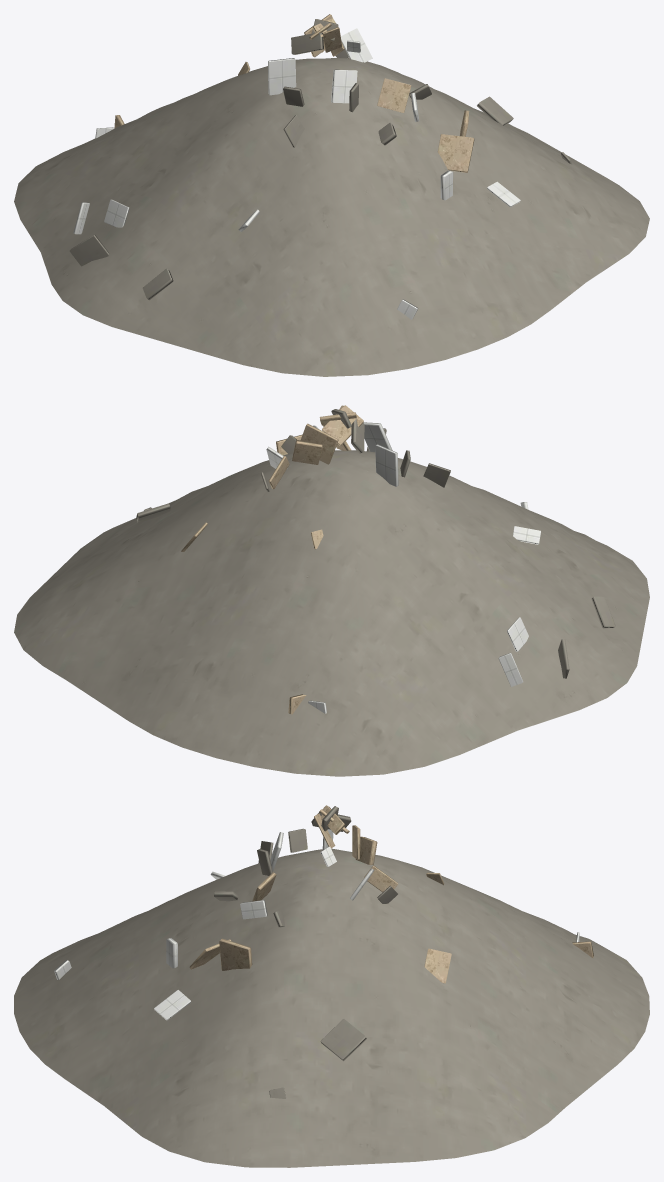
The model's file is SER-DEM-003_lod1.glb.
The picture shows the model from 3 angles, top to bottom: view 1: azimuth 30°, elevation 25°; view 2: azimuth 150°, elevation 25°; view 3: azimuth 270°, elevation 25°; orthographic projection. The views are drawn at different scales.
Parts seen in each view (by area): view 1: SER-DEM-003_monte, SER-DEM-003_caco1, SER-DEM-003_caco18, SER-DEM-003_caco28, SER-DEM-003_caco9, SER-DEM-003_caco8, SER-DEM-003_caco17, SER-DEM-003_caco0, SER-DEM-003_caco2; view 2: SER-DEM-003_monte, SER-DEM-003_caco18, SER-DEM-003_caco19, SER-DEM-003_caco25, SER-DEM-003_caco31, SER-DEM-003_caco9; view 3: SER-DEM-003_monte, SER-DEM-003_caco2, SER-DEM-003_caco16, SER-DEM-003_caco22, SER-DEM-003_caco30.
Boxes of the visible parts, x1,y1,x2,y2 form: SER-DEM-003_monte: (14,57,649,376); SER-DEM-003_caco1: (437,134,474,172); SER-DEM-003_caco18: (268,58,296,95); SER-DEM-003_caco28: (377,78,411,112); SER-DEM-003_caco9: (331,69,357,103); SER-DEM-003_caco8: (69,234,109,266); SER-DEM-003_caco17: (291,32,323,54); SER-DEM-003_caco0: (340,28,372,62); SER-DEM-003_caco2: (477,96,513,125); SER-DEM-003_monte: (14,450,649,776); SER-DEM-003_caco18: (375,444,398,486); SER-DEM-003_caco19: (300,423,338,464); SER-DEM-003_caco25: (322,405,363,445); SER-DEM-003_caco31: (292,440,322,464); SER-DEM-003_caco9: (363,422,392,451); SER-DEM-003_monte: (14,848,649,1167); SER-DEM-003_caco2: (320,1019,366,1061); SER-DEM-003_caco16: (219,938,252,970); SER-DEM-003_caco22: (424,948,451,983); SER-DEM-003_caco30: (154,990,190,1020).
Bounding box in the file's own units: 1.63 × 0.6334 × 1.64.
Materials: 3 (3 with a texture image).
